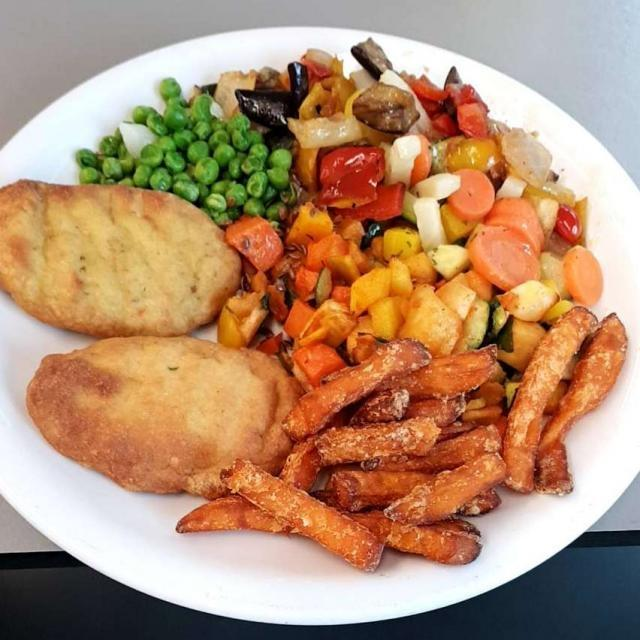mixed-vegetables: (220, 50, 599, 357)
peas: (94, 75, 308, 224)
potatoes: (314, 235, 513, 354)
sweet-potato: (177, 306, 639, 563)
tofu: (6, 168, 287, 502)
